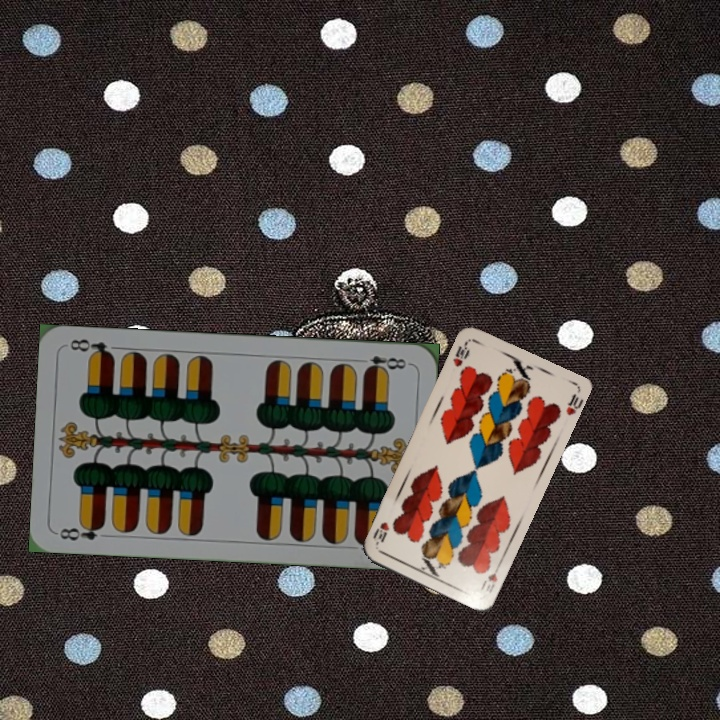E8: (353, 351, 412, 375), (56, 519, 107, 544)
H10: (476, 561, 503, 596), (449, 338, 472, 370)
